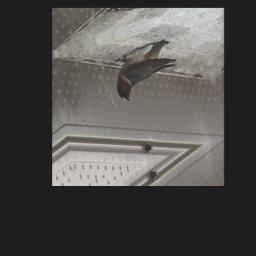Swallow: (110, 35, 181, 105)
